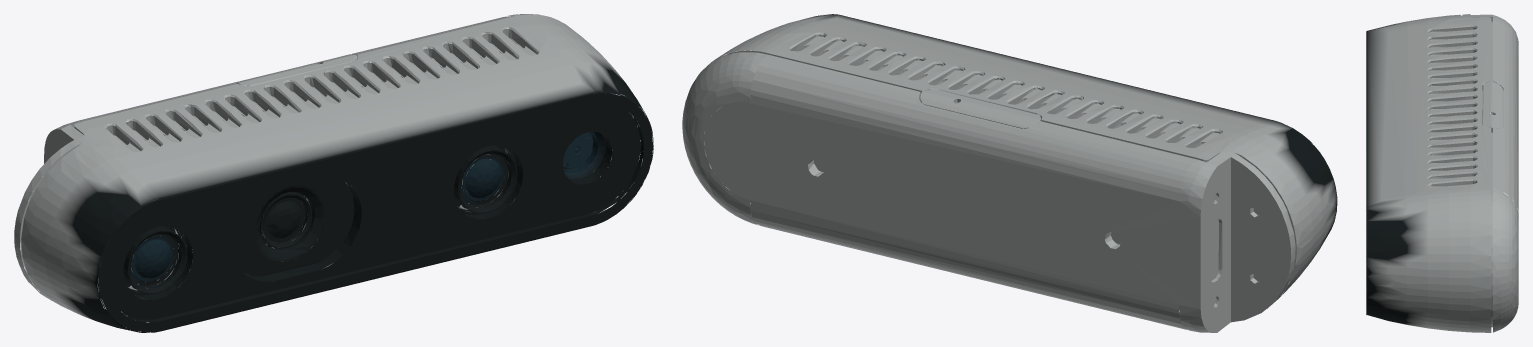
The picture shows the model from 3 angles, left to right: view 1: azimuth 30°, elevation 25°; view 2: azimuth 150°, elevation 25°; view 3: azimuth 270°, elevation 25°; orthographic projection. The views are drawn at different scales.
Parts seen in each view (by area): view 1: 5b3aea852d36660f8dc55aaa; view 2: 5b3aea852d36660f8dc55aaa; view 3: 5b3aea852d36660f8dc55aaa.
Boxes of the visible parts, x1,y1,x2,y2 form: 5b3aea852d36660f8dc55aaa: [14, 14, 653, 332]; 5b3aea852d36660f8dc55aaa: [682, 14, 1337, 332]; 5b3aea852d36660f8dc55aaa: [1366, 14, 1518, 332].
Size of the model in its own units: 0.0899 by 0.025 by 0.0251.
